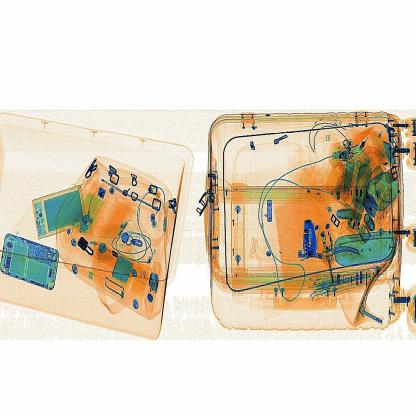scissors: (296, 210, 326, 263)
